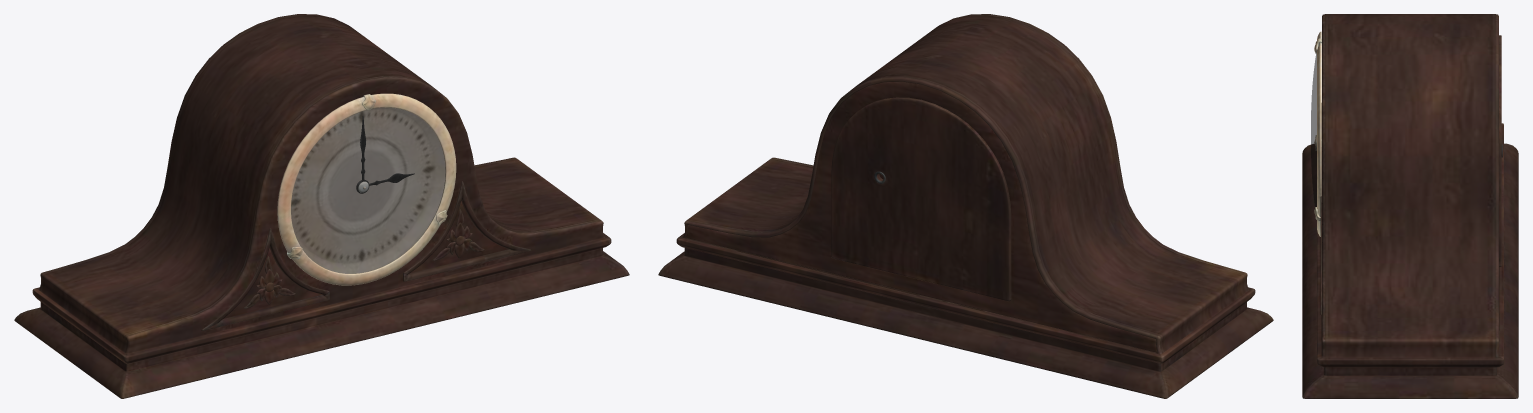
Rendered from mantel_clock_01.glb.
The picture shows the model from 3 angles, left to right: view 1: azimuth 30°, elevation 25°; view 2: azimuth 150°, elevation 25°; view 3: azimuth 270°, elevation 25°; orthographic projection.
Visible parts, largest first — view 1: mantel_clock_01, mantel_clock_01_glass; view 2: mantel_clock_01; view 3: mantel_clock_01, mantel_clock_01_glass.
Part boxes in pixels (<box>): mantel_clock_01: <box>14,14,629,398</box>; mantel_clock_01_glass: <box>291,107,445,273</box>; mantel_clock_01: <box>658,14,1273,398</box>; mantel_clock_01: <box>1302,14,1518,398</box>; mantel_clock_01_glass: <box>1311,53,1316,207</box>.
Size of the model in its own units: 0.3423 by 0.1605 by 0.1262.
2 materials, 2 textured.
